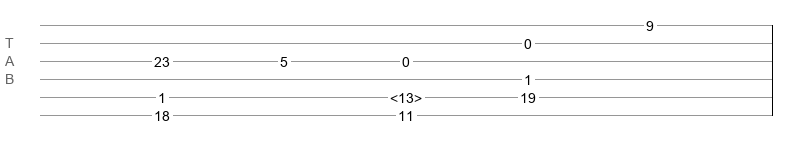0: (402, 54, 410, 64), (524, 36, 532, 46)
1: (158, 90, 166, 100), (524, 72, 532, 82)
11: (398, 108, 414, 118)
18: (154, 108, 170, 118)
19: (520, 90, 536, 100)
23: (154, 54, 170, 64)
5: (280, 54, 288, 64)
9: (646, 18, 654, 28)
harmonic: (390, 90, 422, 100)
